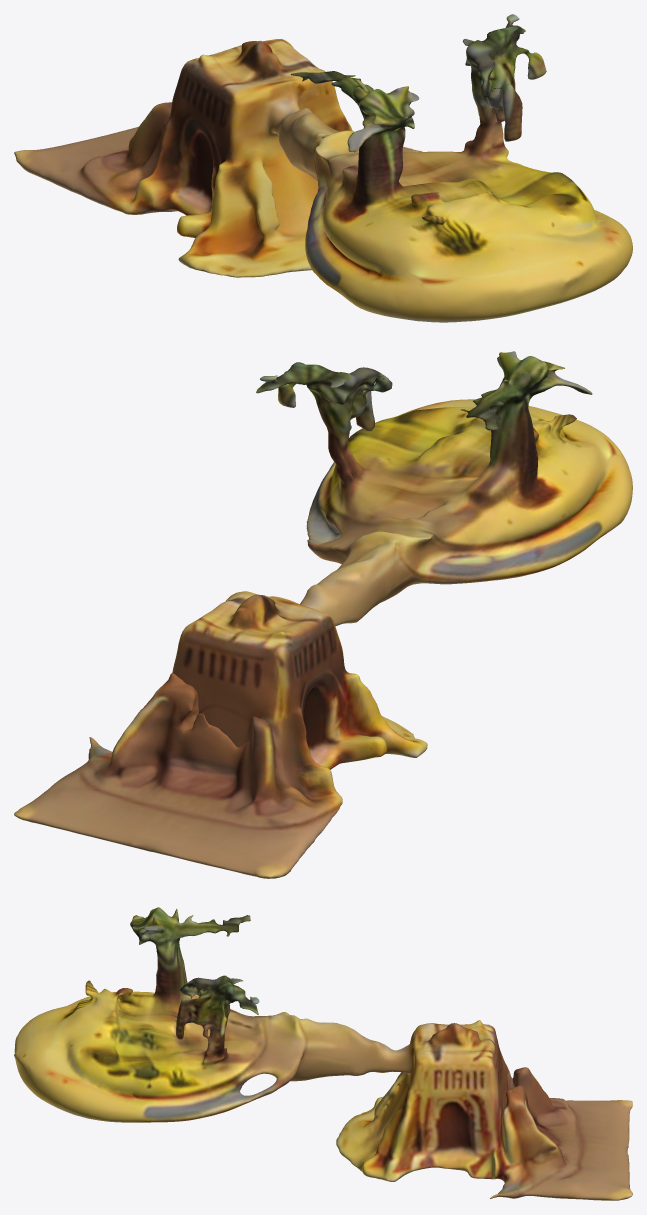
File: desert_tiles.glb
The picture shows the model from 3 angles, top to bottom: view 1: azimuth 30°, elevation 25°; view 2: azimuth 150°, elevation 25°; view 3: azimuth 270°, elevation 25°; orthographic projection. The views are drawn at different scales.
Visible parts, largest first — view 1: tripo_node_d4b8f11a-8102-480f-8dd4-999eec5c45de; view 2: tripo_node_d4b8f11a-8102-480f-8dd4-999eec5c45de; view 3: tripo_node_d4b8f11a-8102-480f-8dd4-999eec5c45de.
Boxes of the visible parts, <box> form: tripo_node_d4b8f11a-8102-480f-8dd4-999eec5c45de: <box>14,14,632,322</box>; tripo_node_d4b8f11a-8102-480f-8dd4-999eec5c45de: <box>14,351,632,878</box>; tripo_node_d4b8f11a-8102-480f-8dd4-999eec5c45de: <box>14,907,632,1200</box>.
Bounding box in the file's own units: 0.363 × 0.3631 × 0.916.
Materials: 1 (1 with a texture image).
